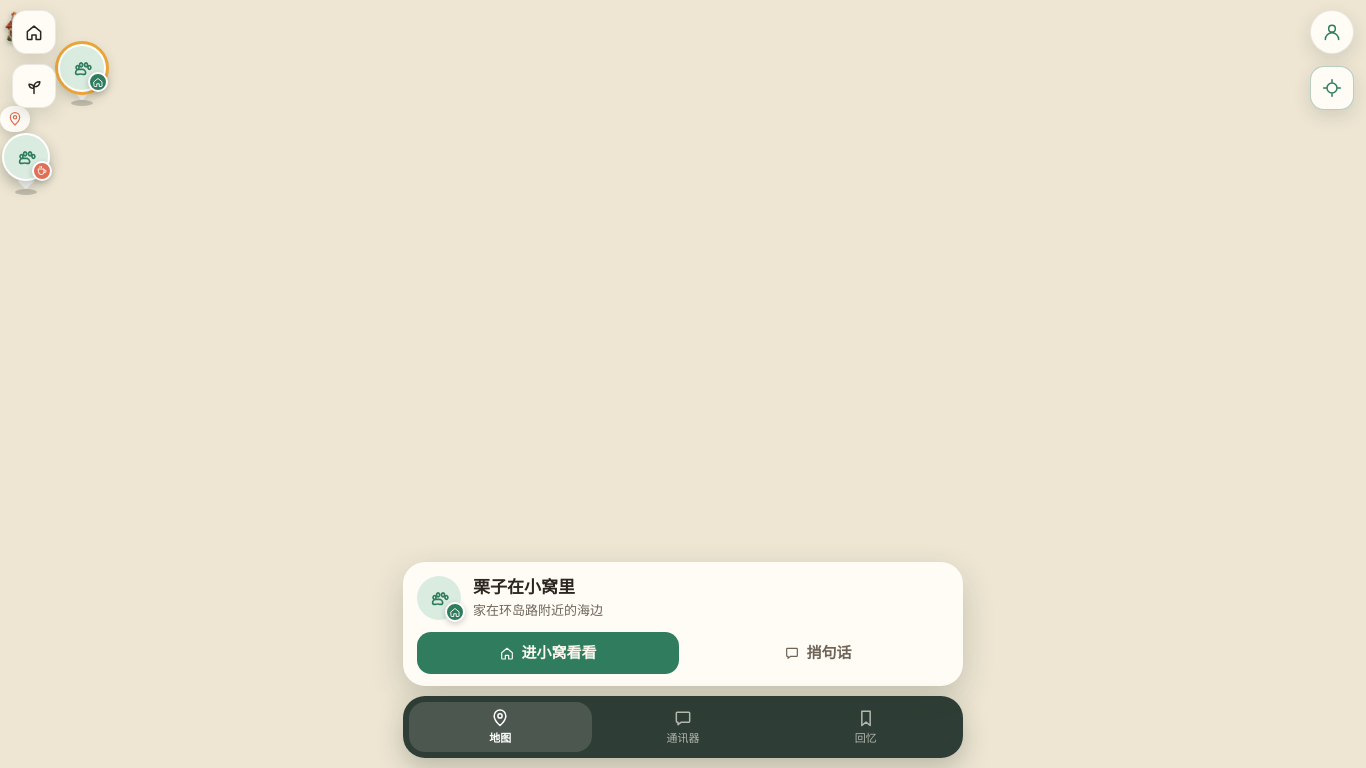
Test: 第 0b 步 · 4：同一个家只画一个小窝标记，在家的几只围着它错开 › 出门在外的不挪：豆包在咖啡馆，不参与围坐；栗子在家照样让开小窝；小窝标记仍只有一个，面板是豆包时说 TA 出门了
The image size is (1366, 768).
Expected: the element named "栗子此刻" is shown, 403,562 -> 963,686
Click the button named "豆包在".
click(26, 164)  # box 0,133 -> 52,195
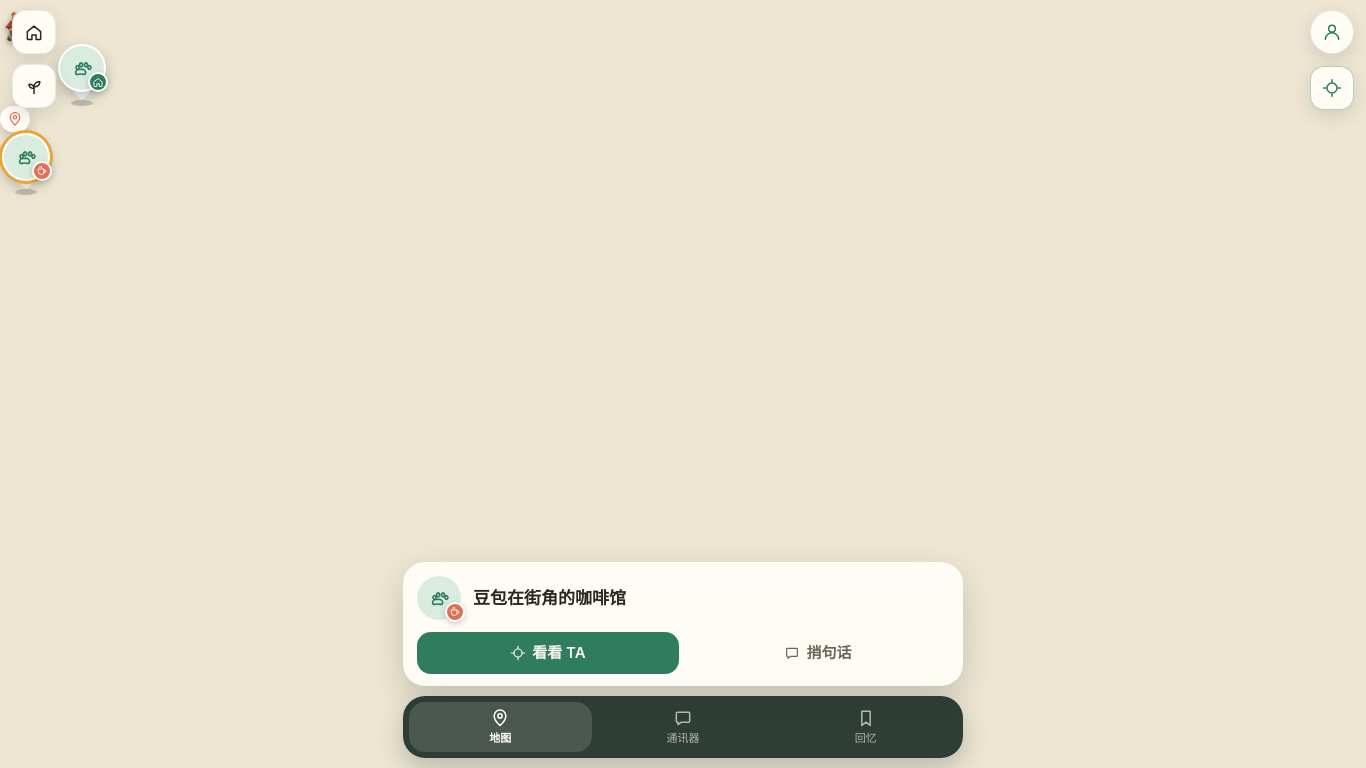
Expected: the link "进小窝看看" is gone
